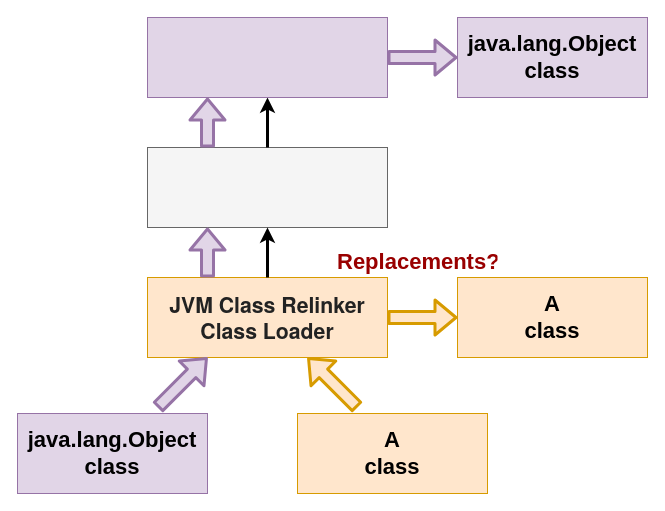
Some shapes in this 665 by 511 pixel diagram are drawn without their labels. The centre of each missing label's shape, as x and y in pixels:
"Bootstrap Class Loader" goes at point (267, 57).
"Platform Class Loader" goes at point (267, 187).
